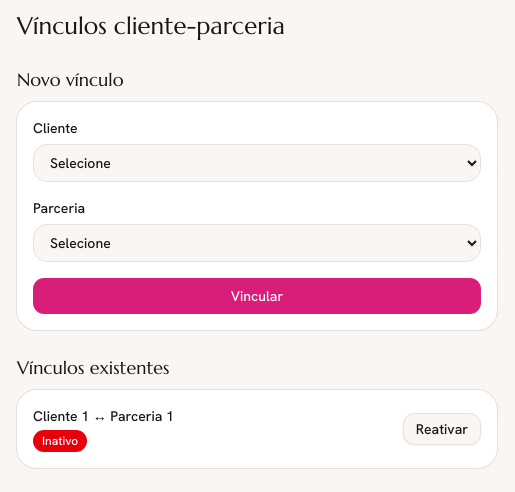
Test: VinculosPage › mostra a mensagem de erro original quando reativar falha
Step 1. Click the button "Reativar" → (442, 429), box x1=403 y1=413 x2=481 y2=445
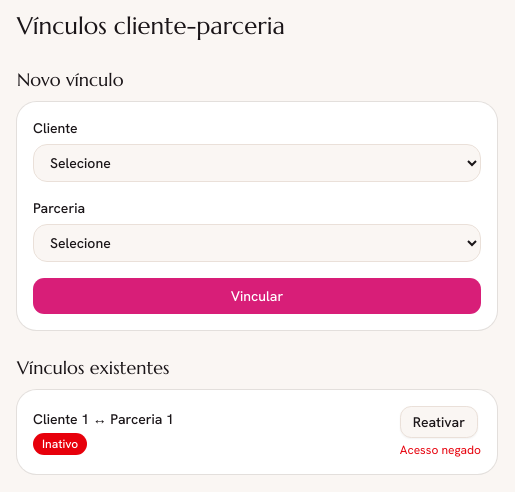
Now the message reads "Acesso negado", box x1=400 y1=442 x2=481 y2=458
